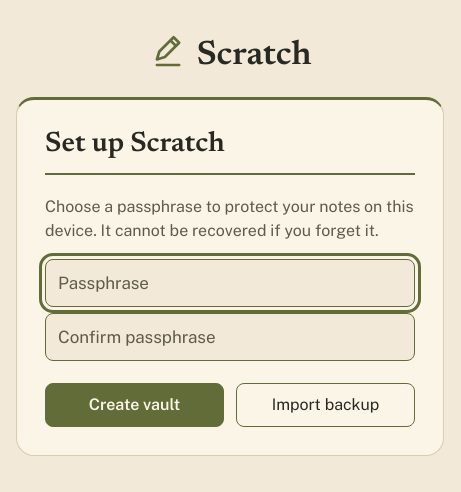
vault session lifecycle › rejects a mismatched confirmation without creating a vault
Step 1. Type "correct horse battery staple" into the password field labelled "Passphrase" → (230, 283), box left=45, top=259, right=415, bottom=307
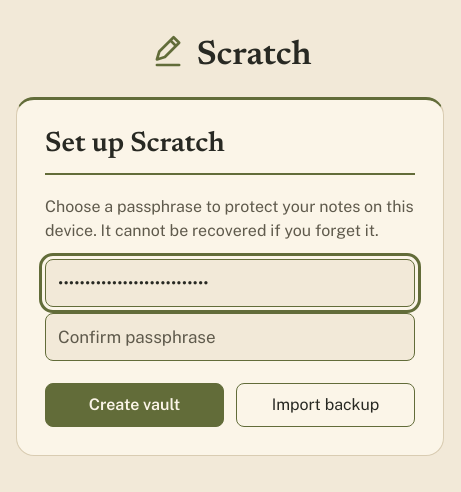
Step 2. Type "something else entirely" into the password field labelled "Confirm passphrase" → (230, 337), box left=45, top=313, right=415, bottom=361
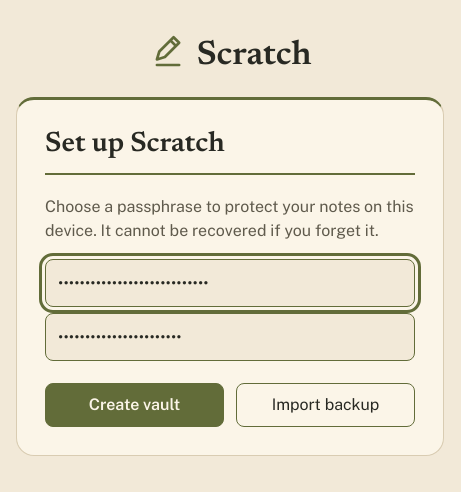
Step 3. Click the button "Create vault" → (134, 405), box left=45, top=383, right=224, bottom=427
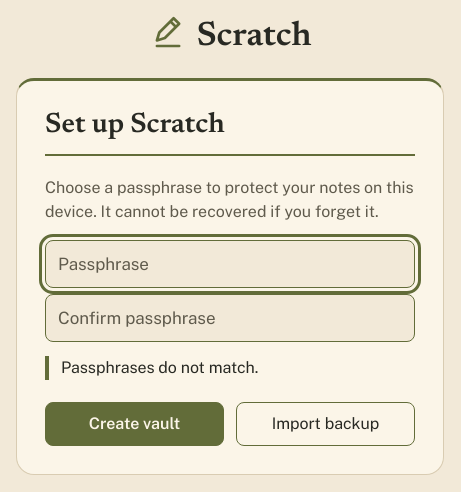
Expected: the message shows "Passphrases do not match", left=61, top=358, right=258, bottom=377
